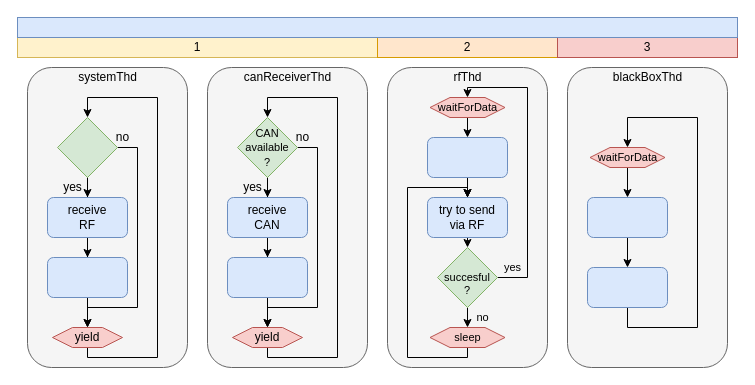
The diagram is 755 pixels wide and 385 high, and some of its shapes have lost their labels. Here are the shapes that lost their labels. From the top down, the centre of each, then its label:
At (377,27): "Priorities".
At (87,147): "RF available ?".
At (467,157): "read from rfFIFO".
At (627,217): "read from bbFIFO".
At (87,277): "decode and execute".
At (267,277): "push to FIFOs".
At (627,287): "write to BlackBox".
